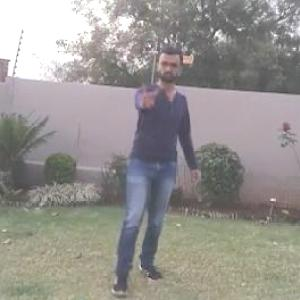takeoff-hand: (130, 81, 164, 114)
